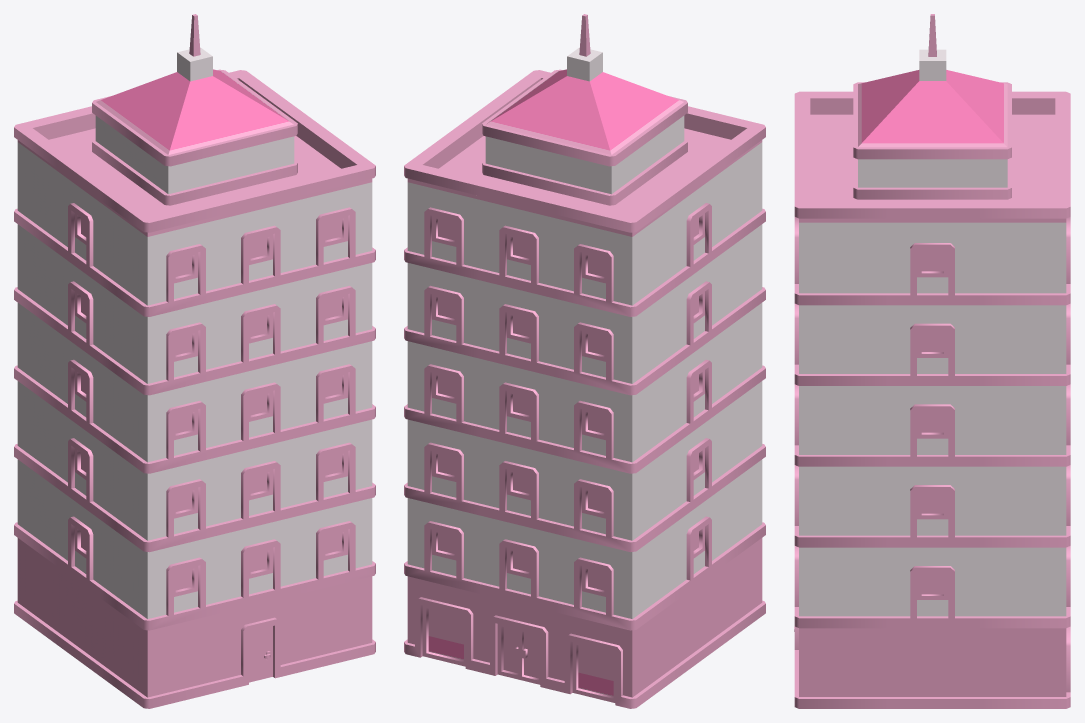
Rendered from building_m.obj.
The picture shows the model from 3 angles, left to right: view 1: azimuth 30°, elevation 25°; view 2: azimuth 150°, elevation 25°; view 3: azimuth 270°, elevation 25°; orthographic projection. The views are drawn at different scales.
Parts seen in each view (by area): view 1: building-m; view 2: building-m; view 3: building-m.
Part boxes in pixels (x1,y1,x2,y2): building-m: (14,14,375,708); building-m: (404,14,765,708); building-m: (794,14,1070,708).
Size of the model in its own units: 24.8 by 63 by 24.84.
Materials: 1 (1 with a texture image).
